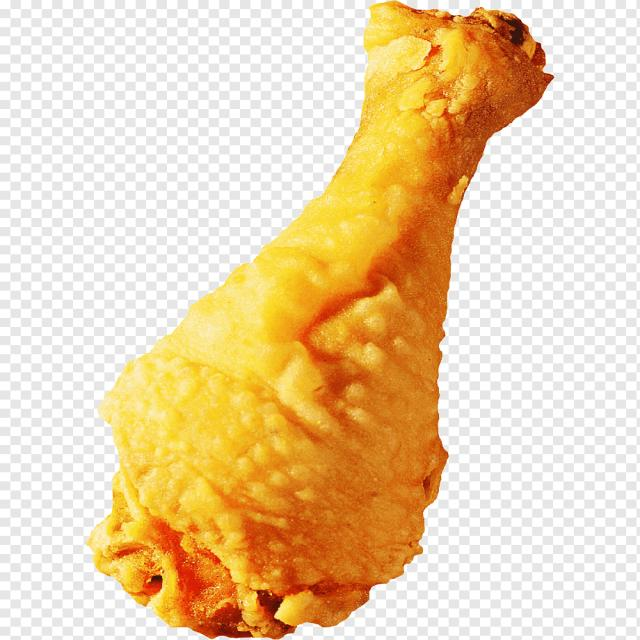Frango: (91, 6, 550, 630)
